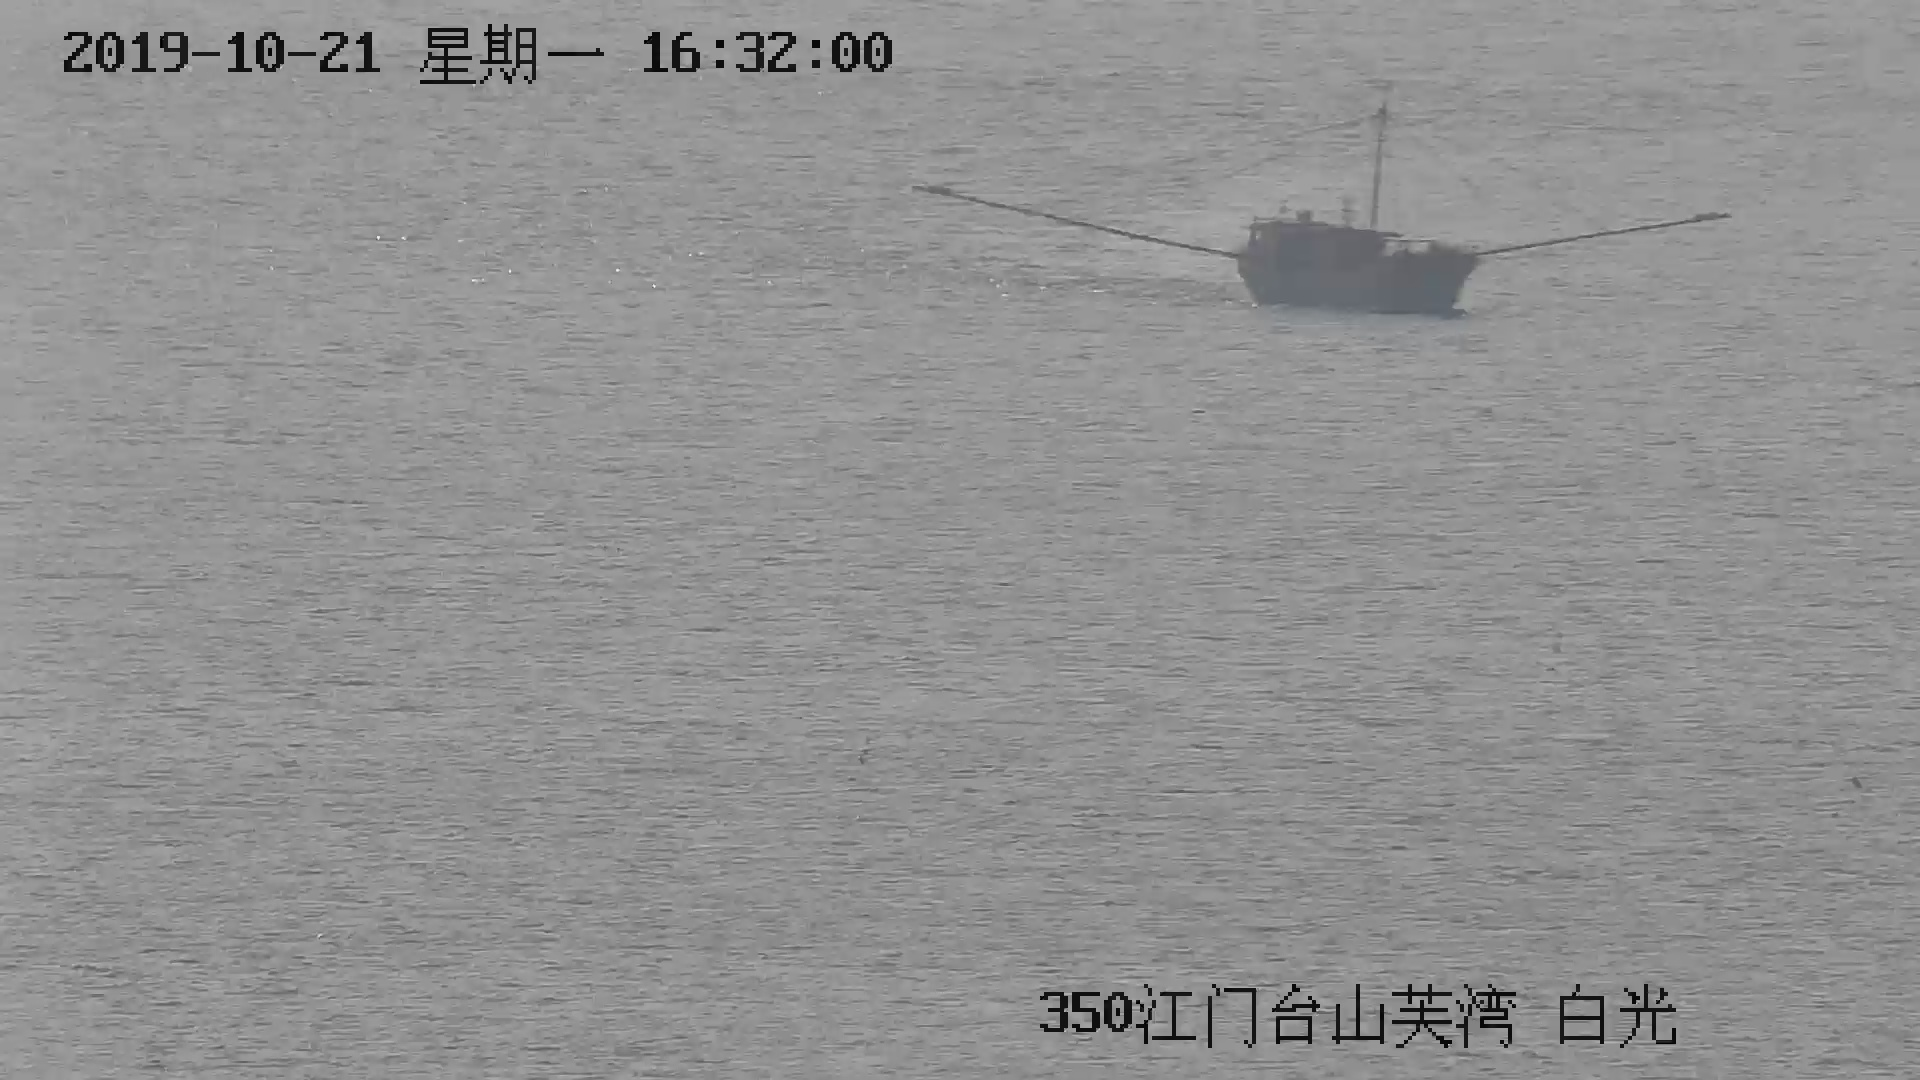ship: (1236, 98, 1481, 318)
